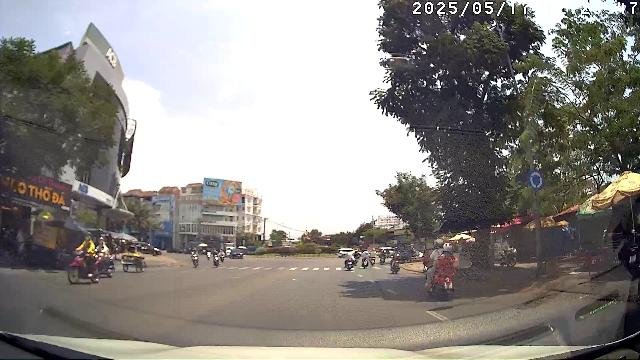303-noi-giao-nhau-chay-theo-vong-xuyen: (528, 170, 544, 190)
